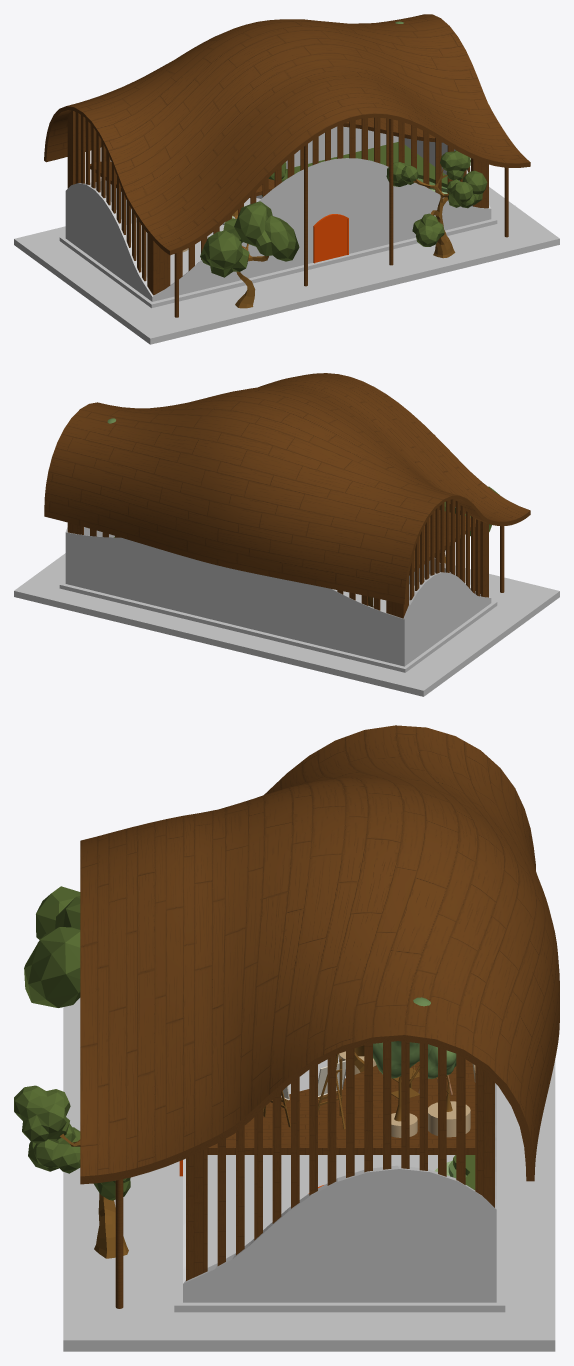
Rendered from artsCenter.fbx.
3 views of the same model, one above another, from view 1: azimuth 30°, elevation 25°; view 2: azimuth 150°, elevation 25°; view 3: azimuth 270°, elevation 25° (orthographic). The views are drawn at different scales.
Visible parts, largest first — view 1: artsCenter; view 2: artsCenter; view 3: artsCenter.
Boxes of the visible parts, box(x1,y1,x2,y2) form: artsCenter: box(14, 14, 559, 344); artsCenter: box(14, 373, 559, 696); artsCenter: box(14, 725, 559, 1351).
Size of the model in its own units: 137 by 64.86 by 87.79.
